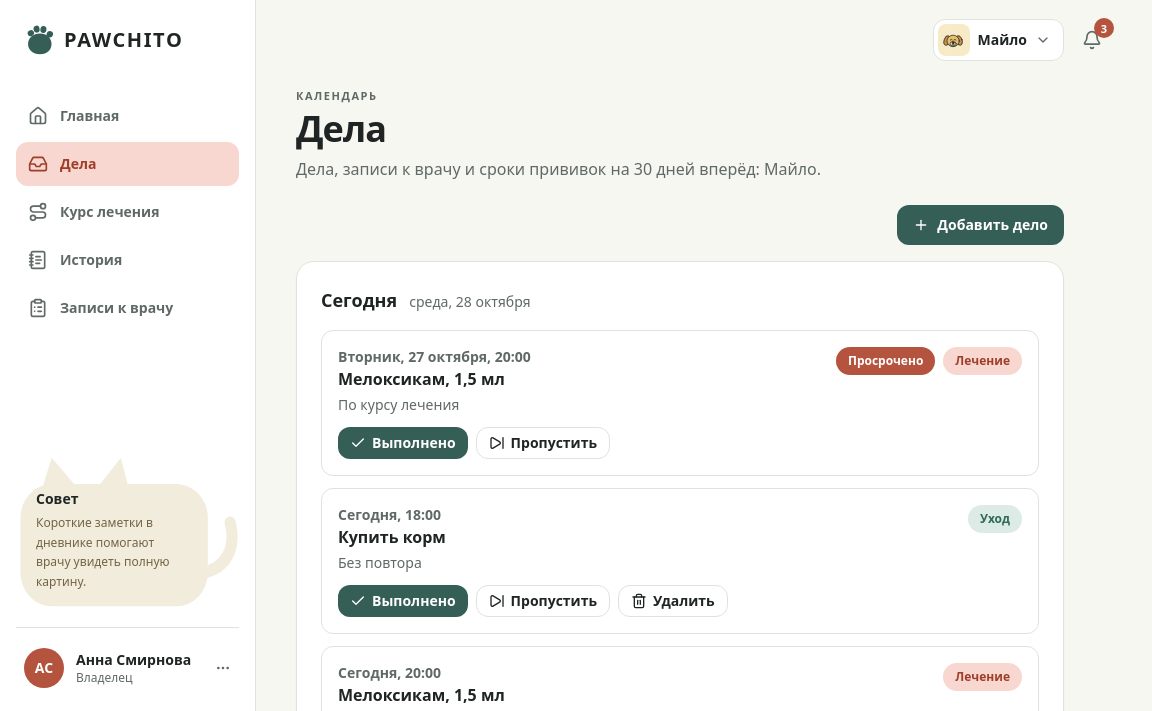
Test case: TasksPage › «Дальше 30 дней»: своё дело на год вперёд видно с годом и удаляется
Click the button "Добавить дело".
click(981, 224)  # box [897,204,1064,244]
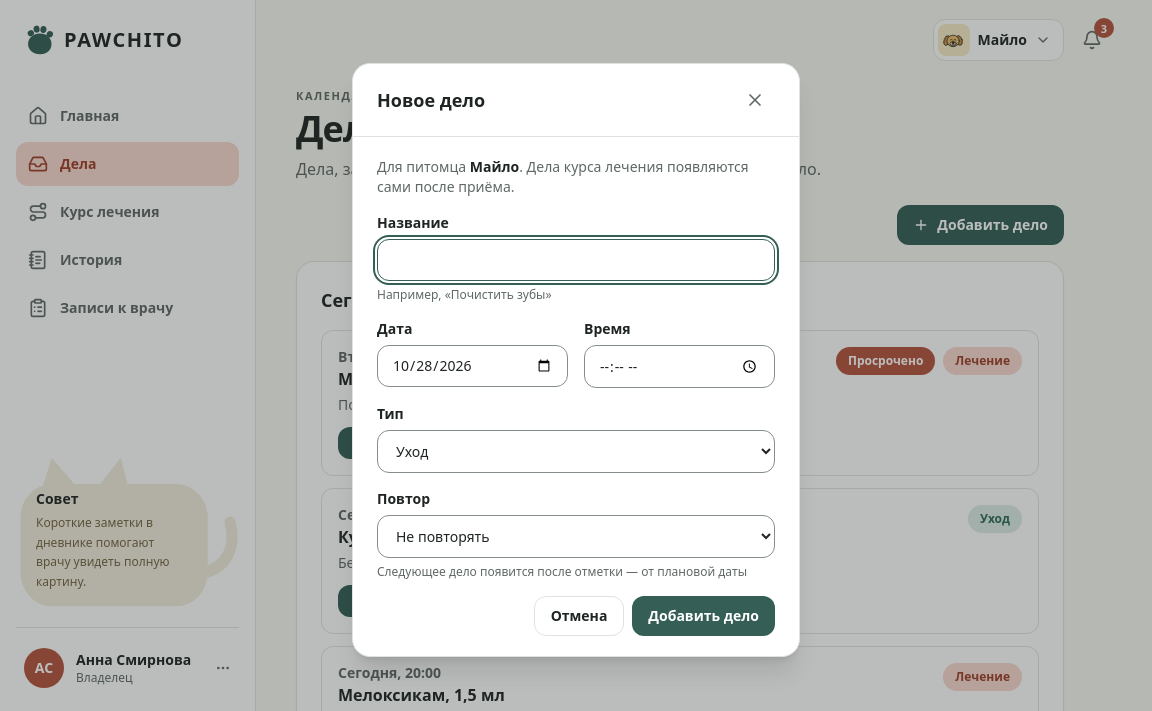
Type "Прививка от клещей" into the field labelled "Название".
click(576, 260); type("Прививка от клещей")  # box [377,239,775,281]
Type "2027-06-15" into the date field labelled "Дата".
click(472, 366); type("2027-06-15")  # box [377,345,568,387]
Type "10:00" into the time field labelled "Время".
click(680, 367); type("10:00")  # box [584,345,775,388]
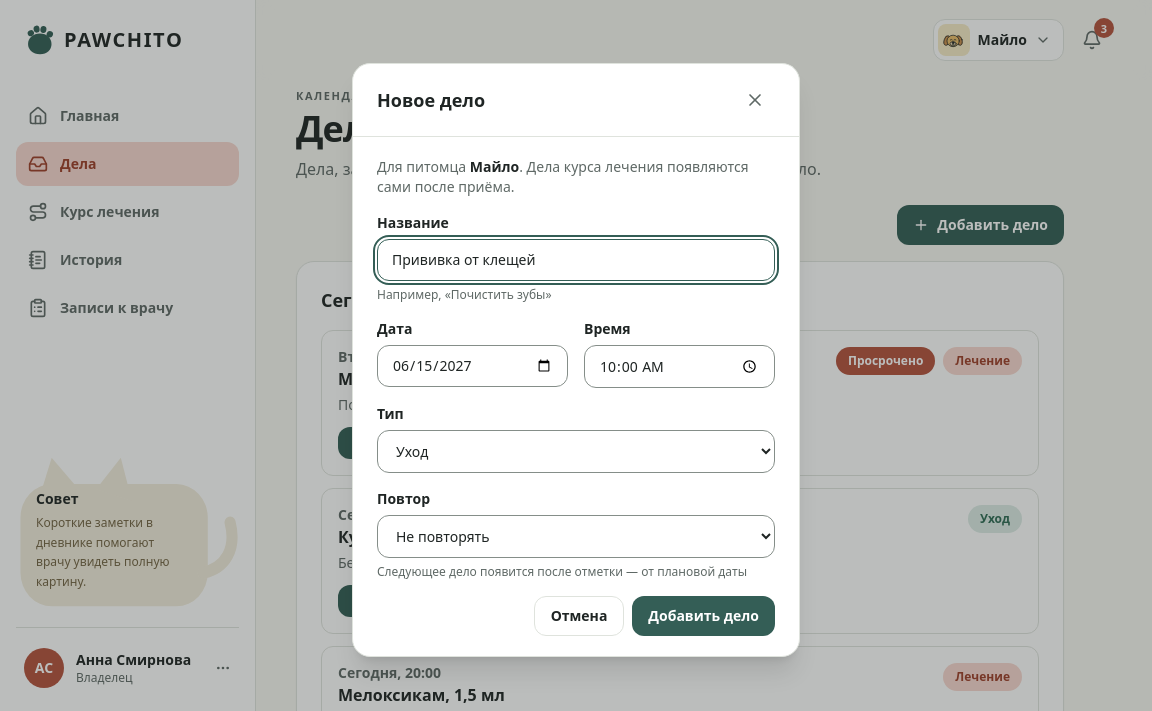
Select "Профилактика" in the dropdown labelled "Тип" at [576, 451], box [377,430,775,473]
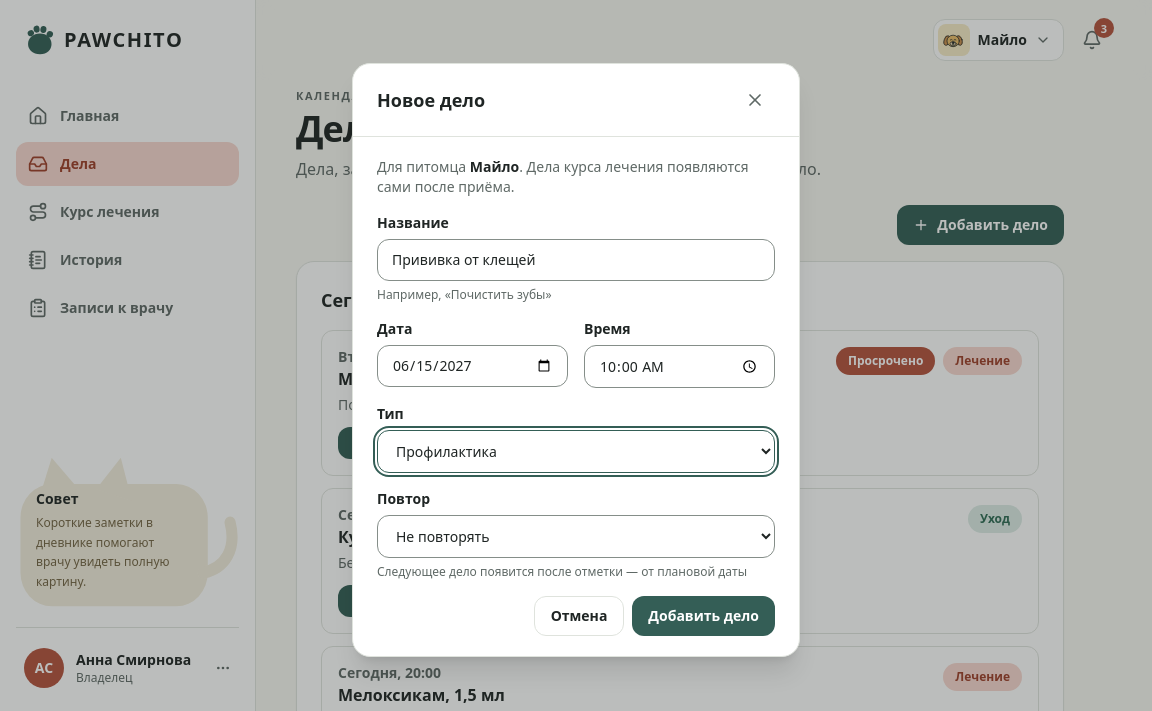
Click the button "Добавить дело".
click(704, 616)  # box [632,596,775,636]
(page scrolled)
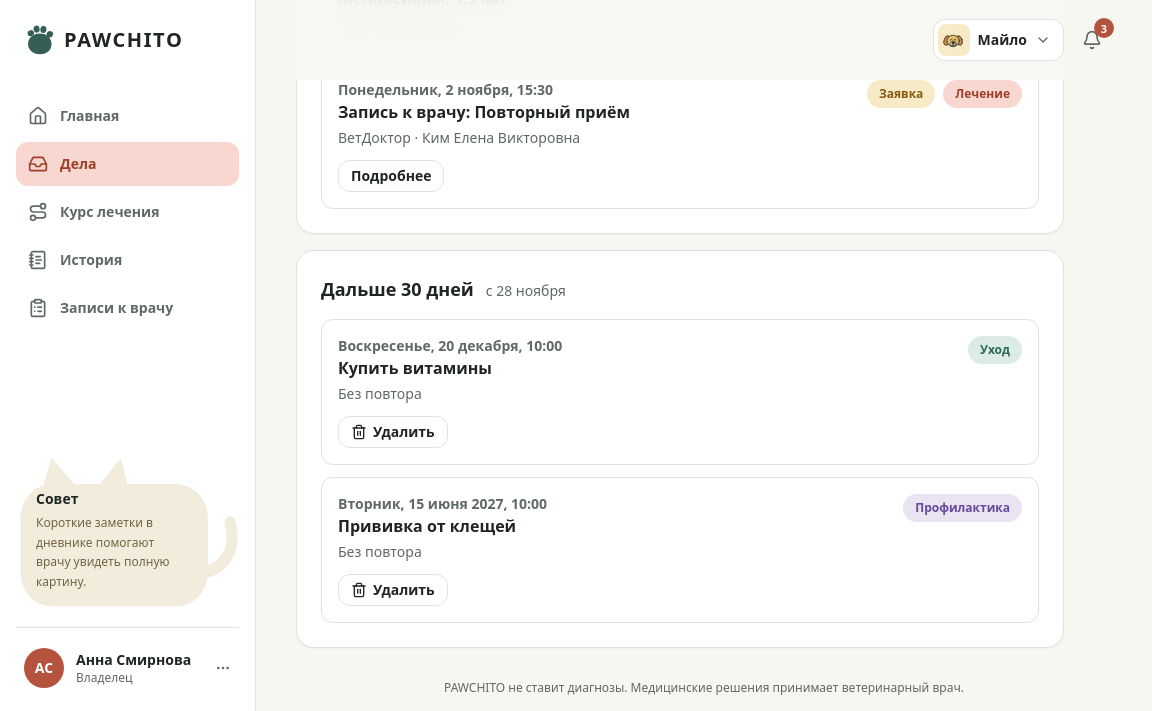
Check: the text "вторник, 15 июня 2027, 10:00" is shown, box [338,494,547,514]
Check: the button "Выполнено" is gone
Click the button named "Удалить, Прививка от клещей, вторник, 15 июня 2027, 10:00".
click(393, 590)  # box [338,574,448,606]
(page scrolled)
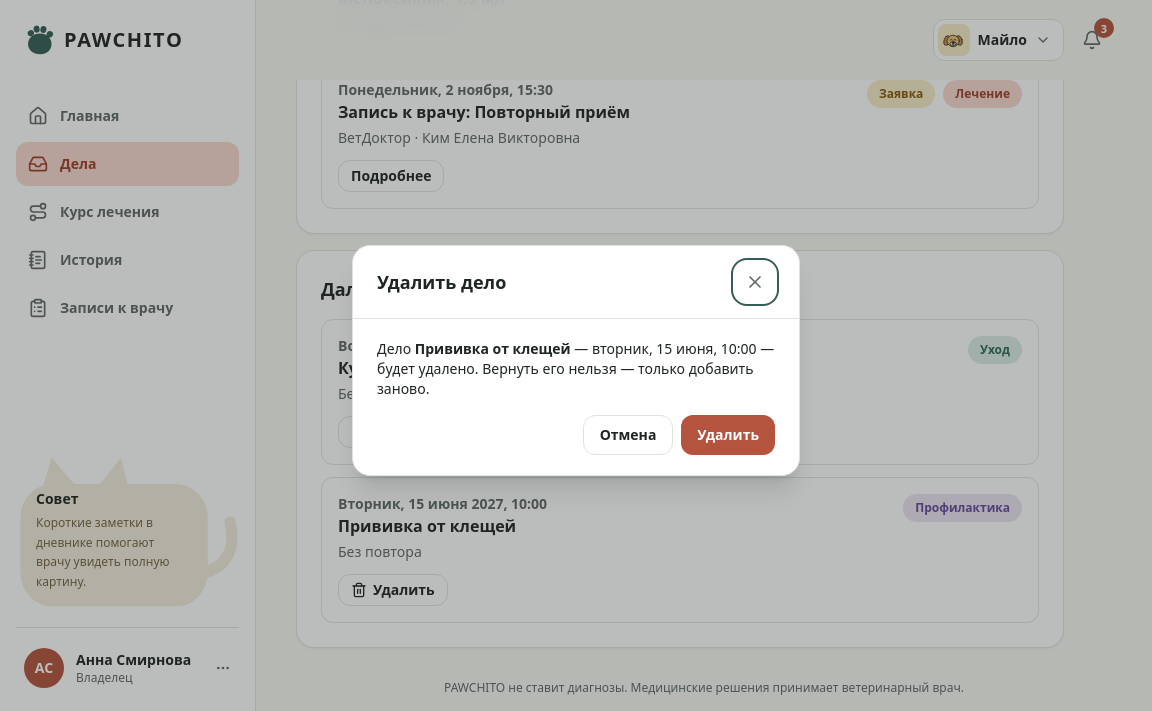
Click the button "Удалить".
click(728, 434)  # box [681,414,775,454]
(page scrolled)
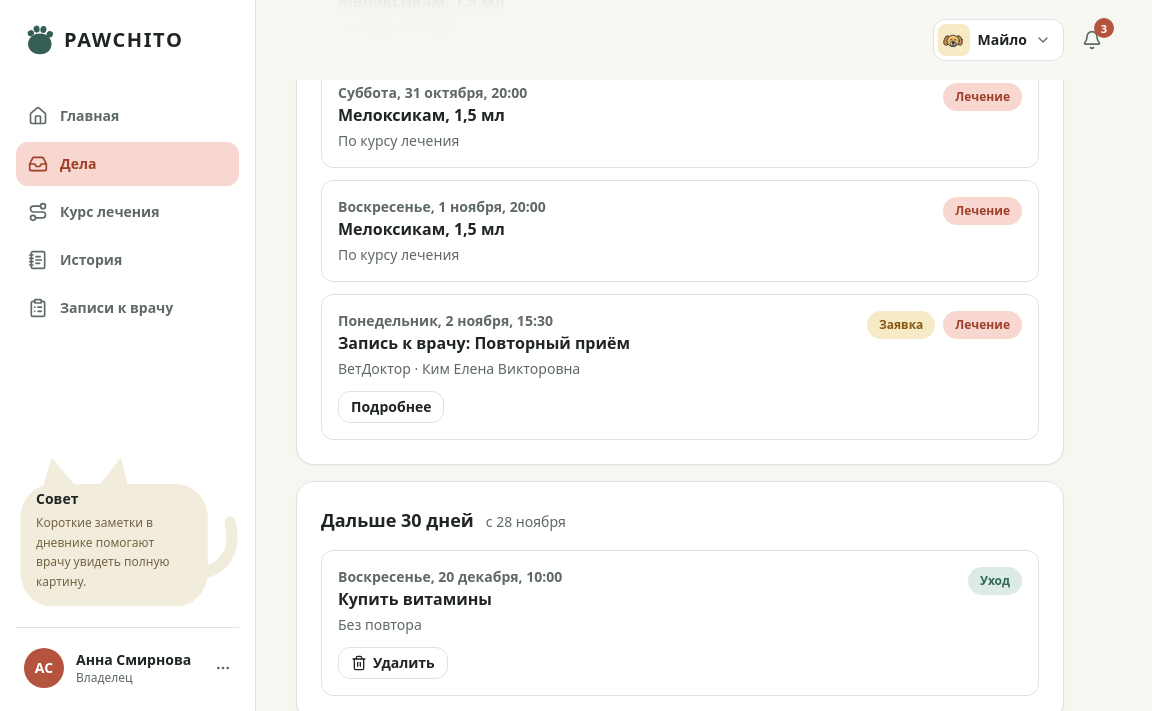
Check: the element "Купить витамины" is shown, box [321,550,1039,696]
Check: the heading "Прививка от клещей" is gone
